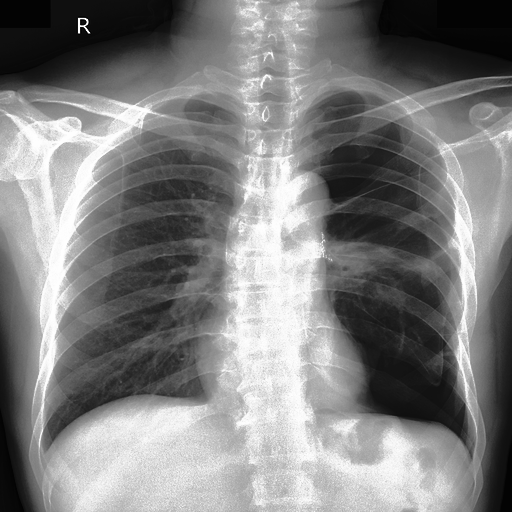Atelectasis: (299, 87, 474, 459), (309, 92, 448, 201), (364, 311, 469, 445)
Pneumothorax: (335, 244, 437, 279)
